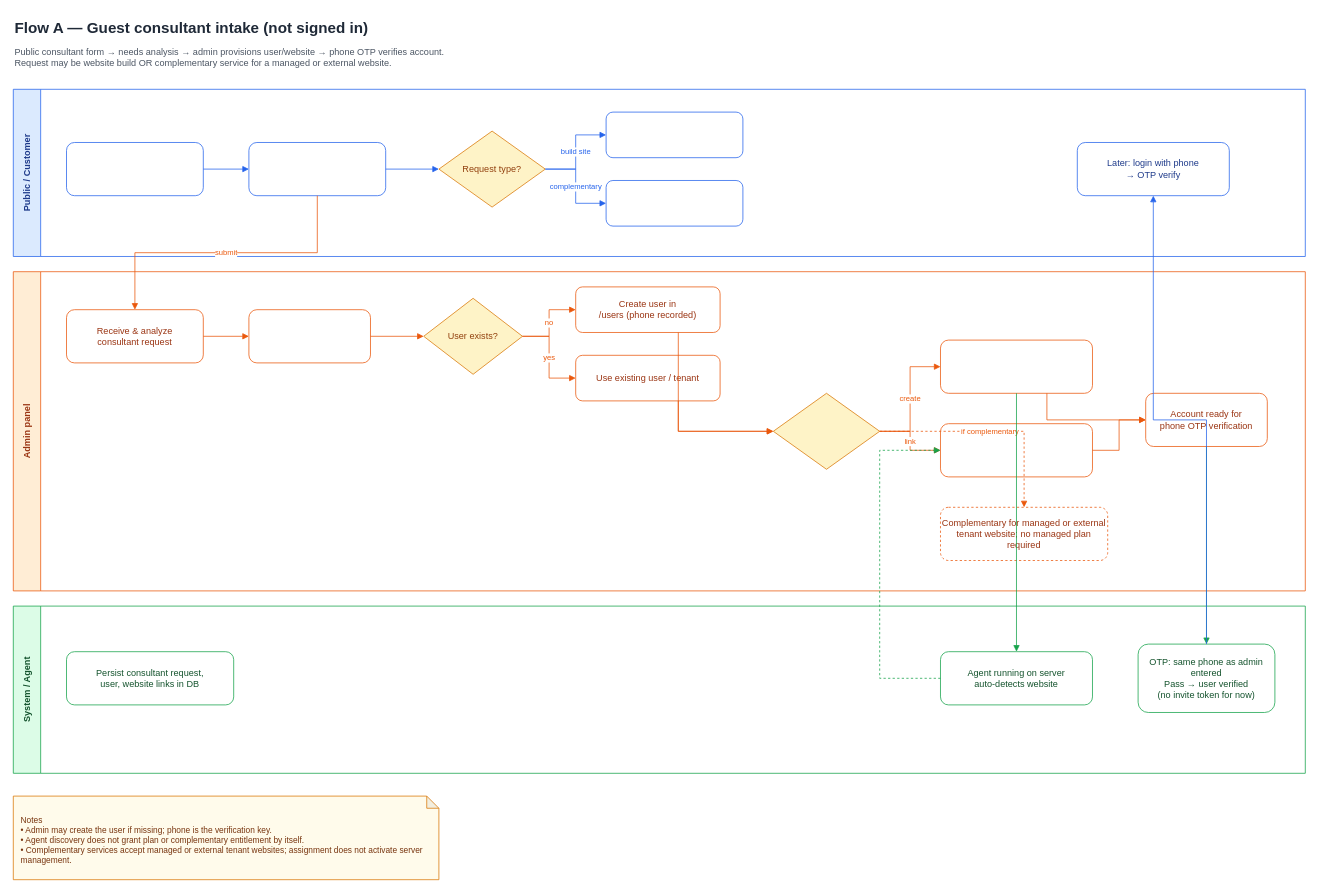
Image size: 1319x893. Some labels were removed from this diagram. The box of each missing label's shape, as (x1, y1, x2, y2) in pixels:
Complementary service (SEO, design, …): (605, 180, 743, 226)
Consulting done: (248, 309, 370, 363)
Create / deploy website on managed server: (940, 339, 1092, 393)
Fill consultant form: (248, 142, 386, 196)
Link website to existing user/tenant: (940, 423, 1092, 477)
Visit public website (not signed in): (66, 142, 203, 196)
Website action?: (773, 393, 880, 469)
Website build / managed hosting need: (605, 111, 743, 158)
